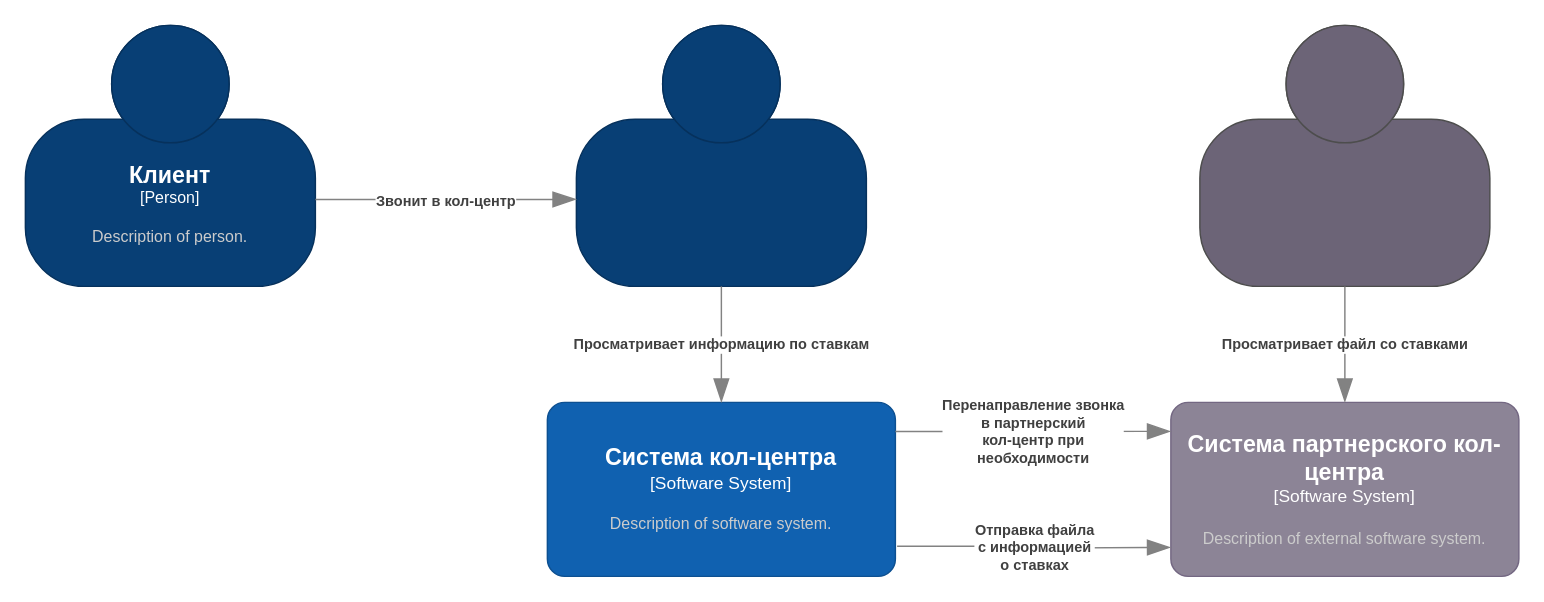
Some shapes in this 1544 by 602 pixel diagram are drawn without their labels. The shapes that lost their labels are listed below. From the top down, each one's box as (x1, y1, x2, y2) in pixels, then its label:
(575, 24, 866, 286): Менеджер кол-центра [Person] Description of person.
(1198, 24, 1490, 286): Менеджер партнерского кол-центра [Person] Description of external person.
